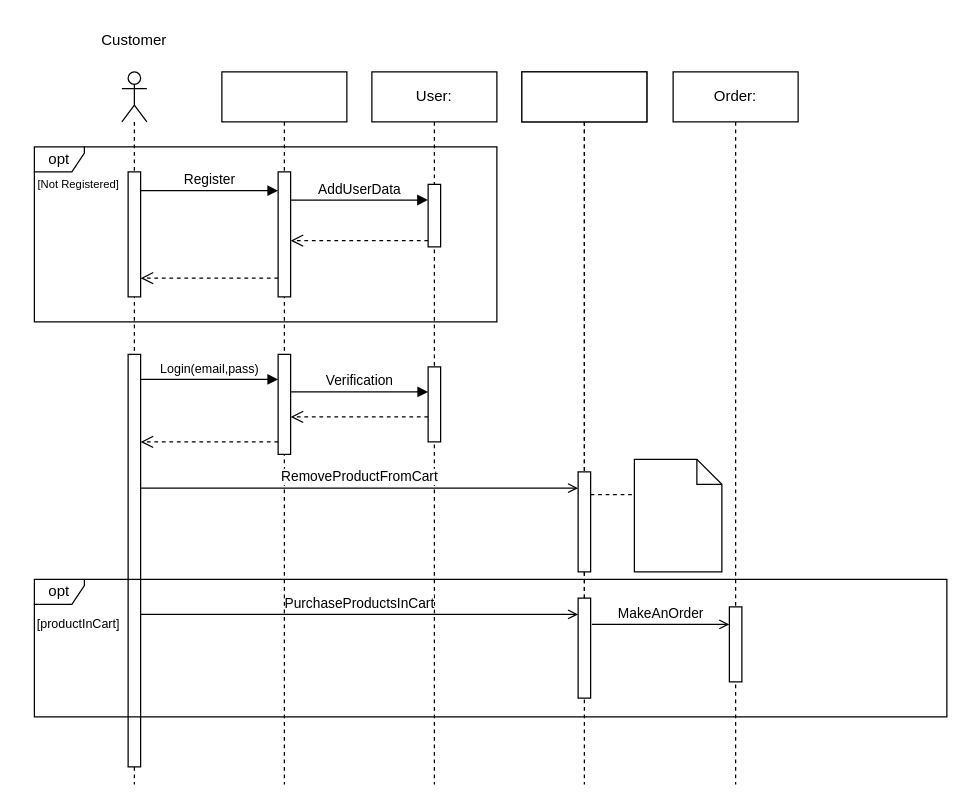
The diagram is 969 pixels wide and 806 high, and some of its shapes have lost their labels. Here are the shapes that lost their labels. From the top down, the box of each, then its label:
(221, 71, 347, 784): LoginScreen:
(521, 71, 647, 784): Customer:
(633, 458, 722, 572): Remove Product From Order Table
